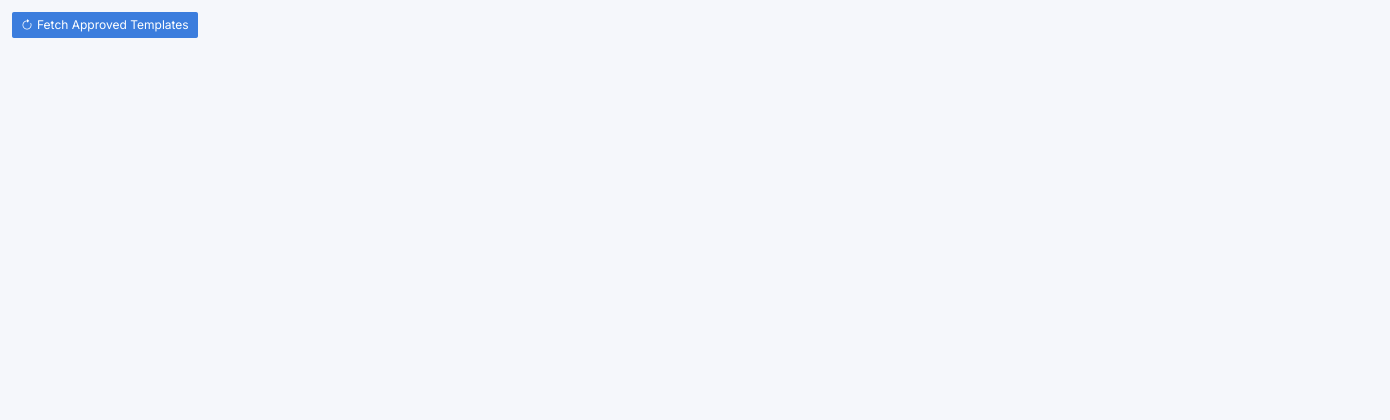
Test: WABATemplateTesterWidget › 7. selecting a template shows its component preview
The width and height of the screenshot is (1390, 420).
Step 1. Click the button "Fetch Approved Templates" → (105, 25), box [12,12,198,38]
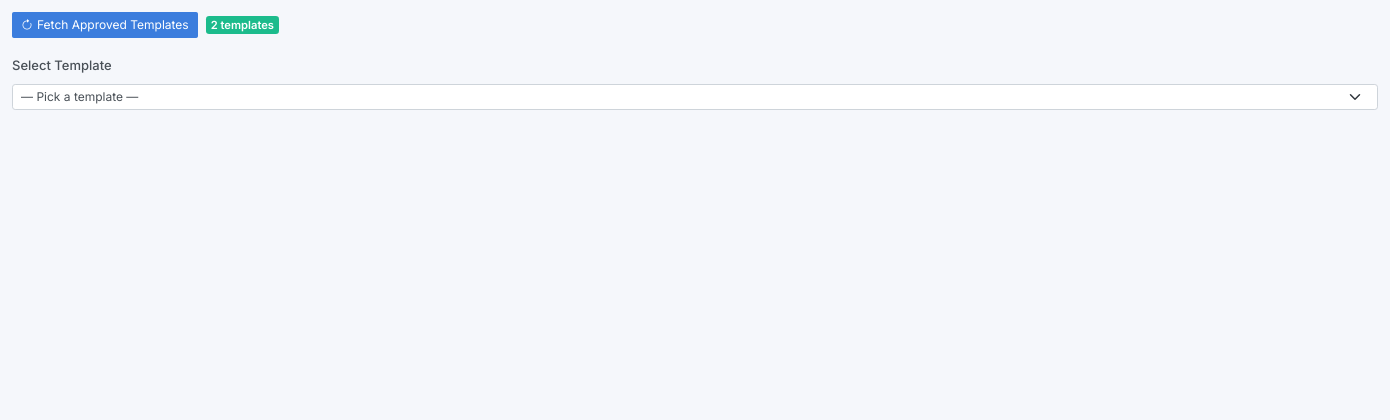
Step 2. Select "rfq_to_supplier | UTILITY | en" in the dropdown → (695, 97), box [12,84,1378,110]
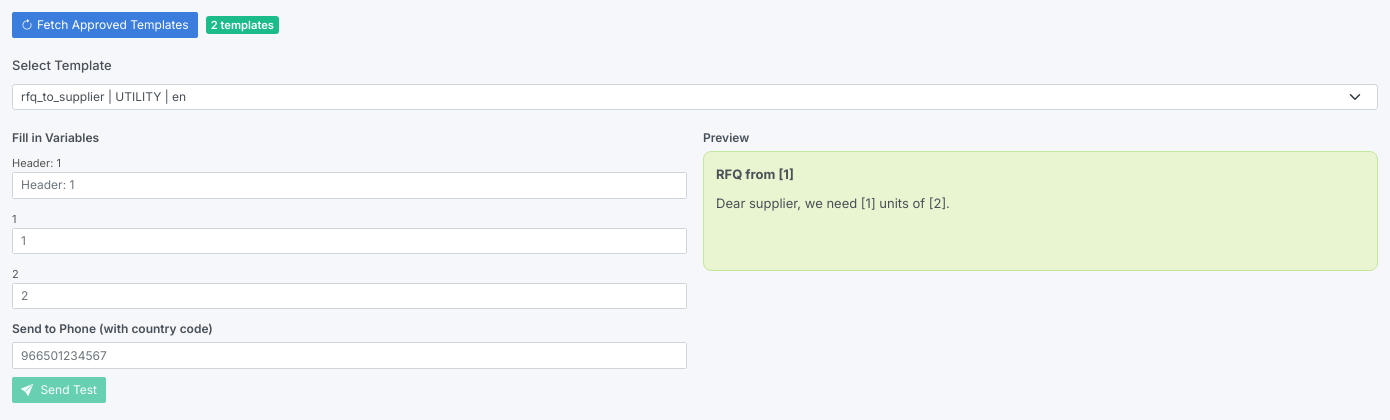
Result: the text "RFQ from [1]" is shown at [716,166,794,182]
